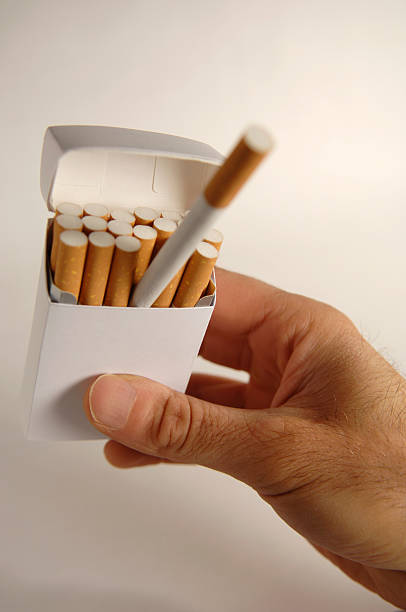cigarette: (19, 114, 230, 443), (129, 123, 277, 309), (170, 240, 220, 308), (79, 230, 116, 306), (54, 229, 89, 305), (104, 234, 140, 307), (131, 226, 158, 286), (151, 217, 178, 263), (52, 212, 82, 232), (82, 214, 109, 235), (54, 201, 84, 218), (133, 207, 162, 224), (108, 220, 133, 238), (109, 208, 137, 224), (204, 227, 225, 248), (84, 202, 109, 218), (160, 210, 182, 222)
